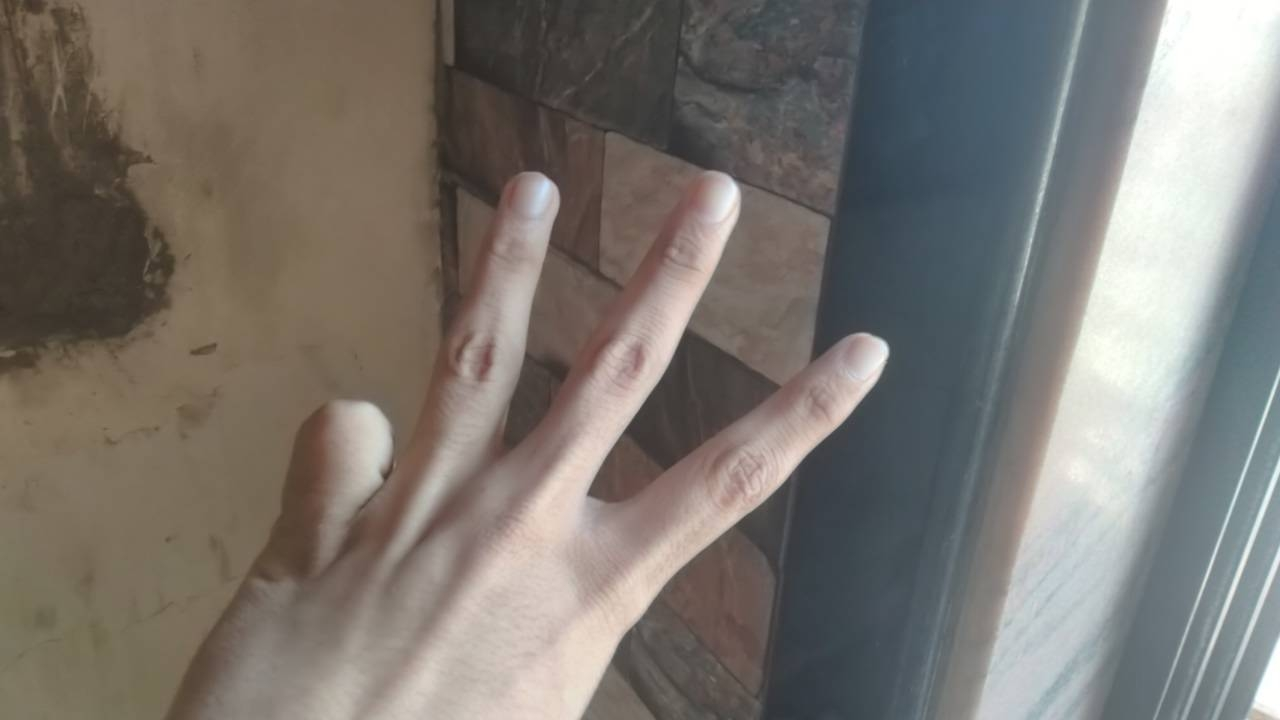fingertip: (494, 164, 564, 230), (828, 326, 896, 390), (684, 164, 748, 230)
